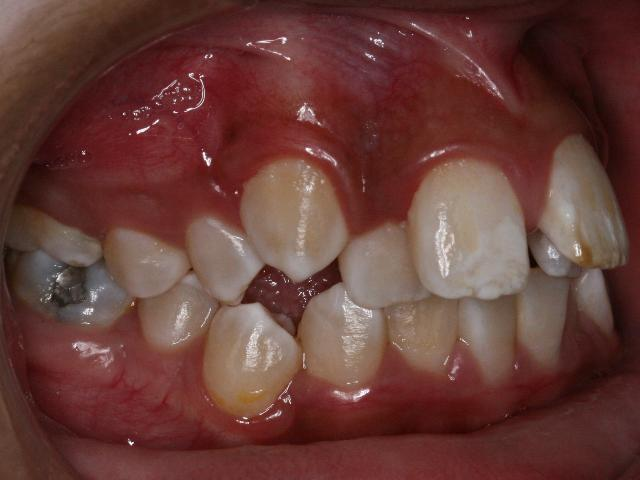canine class I: (202, 153, 386, 421)
molar class I: (2, 204, 138, 336)
